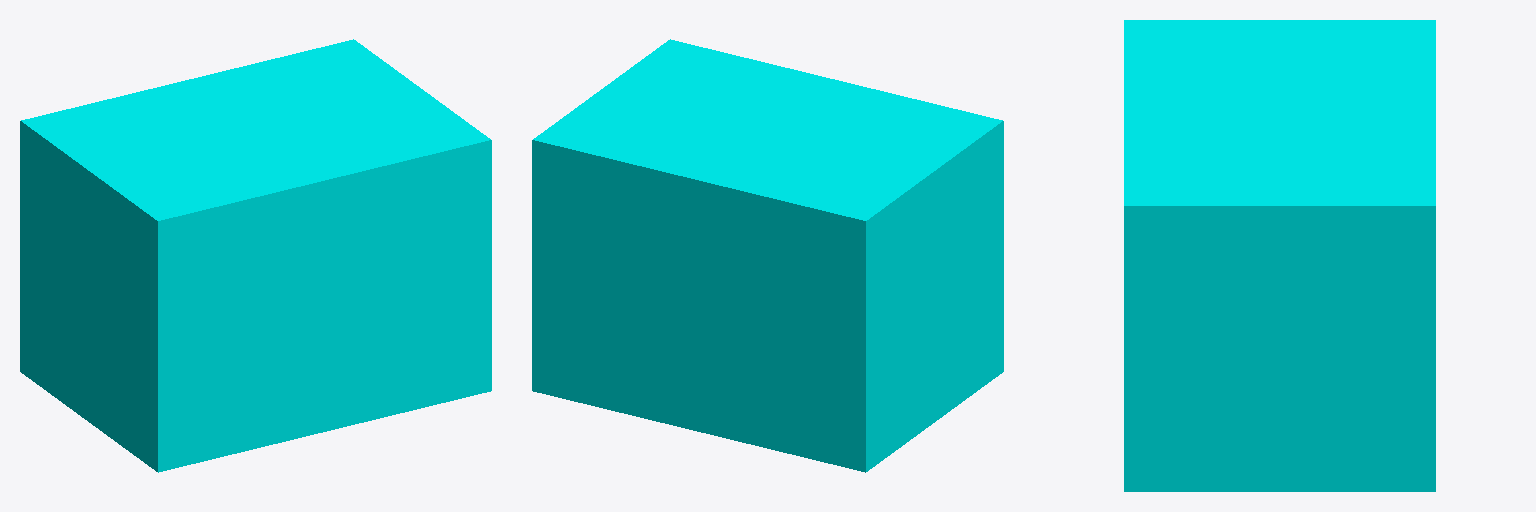
URDF robot description (controlbox):
<?xml version="1.0"?>
<!-- Representation of the control-box the UR5 is placed on -->
<robot name="controlbox">
	<link name="controlbox">
		<visual>
			<origin xyz="0 0 0" rpy="0 0 0"/>
			<geometry>
				<box size="0.75 0.535 0.54"/>
			</geometry>
			<material name="Cyan">
				<color rgba="0 1 1 1"/>
			</material>
		</visual>
		<collision>
			<origin xyz="0 0 0" rpy="0 0 0"/>
			<geometry>
				<box size="0.75 0.535 0.54"/>
			</geometry>			
		</collision>
	</link>
</robot>

--- Facts derived from the render (not from the file) ---
3 views of the same robot in one strip: view 1: azimuth 30°, elevation 25°; view 2: azimuth 150°, elevation 25°; view 3: azimuth 270°, elevation 25° (orthographic).
Robot: controlbox — 1 links, 0 joints (none); root link controlbox; default pose: all joints at 0.
Links seen in each view (by area): view 1: controlbox; view 2: controlbox; view 3: controlbox.
Link boxes in pixels (<box>): controlbox: <box>20,39,491,472</box>; controlbox: <box>532,39,1003,472</box>; controlbox: <box>1124,20,1435,491</box>.
Bounding box of the posed robot: 0.75 × 0.535 × 0.54 m (x, y, z).
Geometry: primitives only (box / cylinder / sphere), no mesh files.